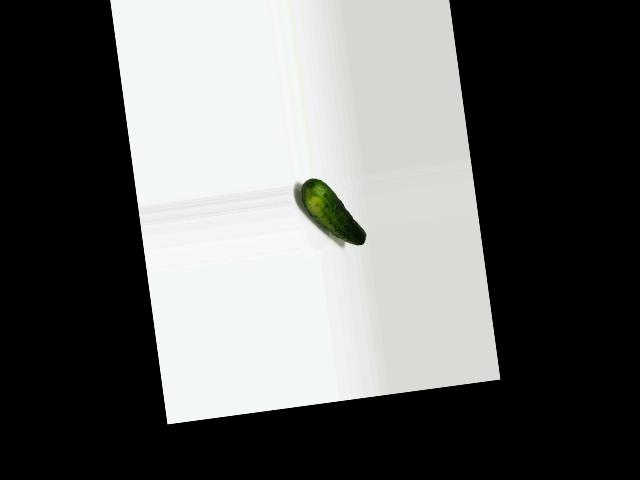cucumber: (300, 173, 366, 252)
